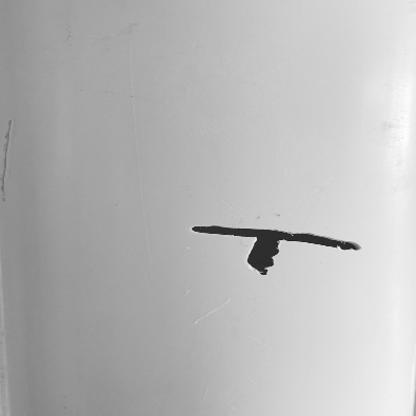fengxi: (192, 224, 362, 253)
kongdong: (247, 238, 283, 278)
